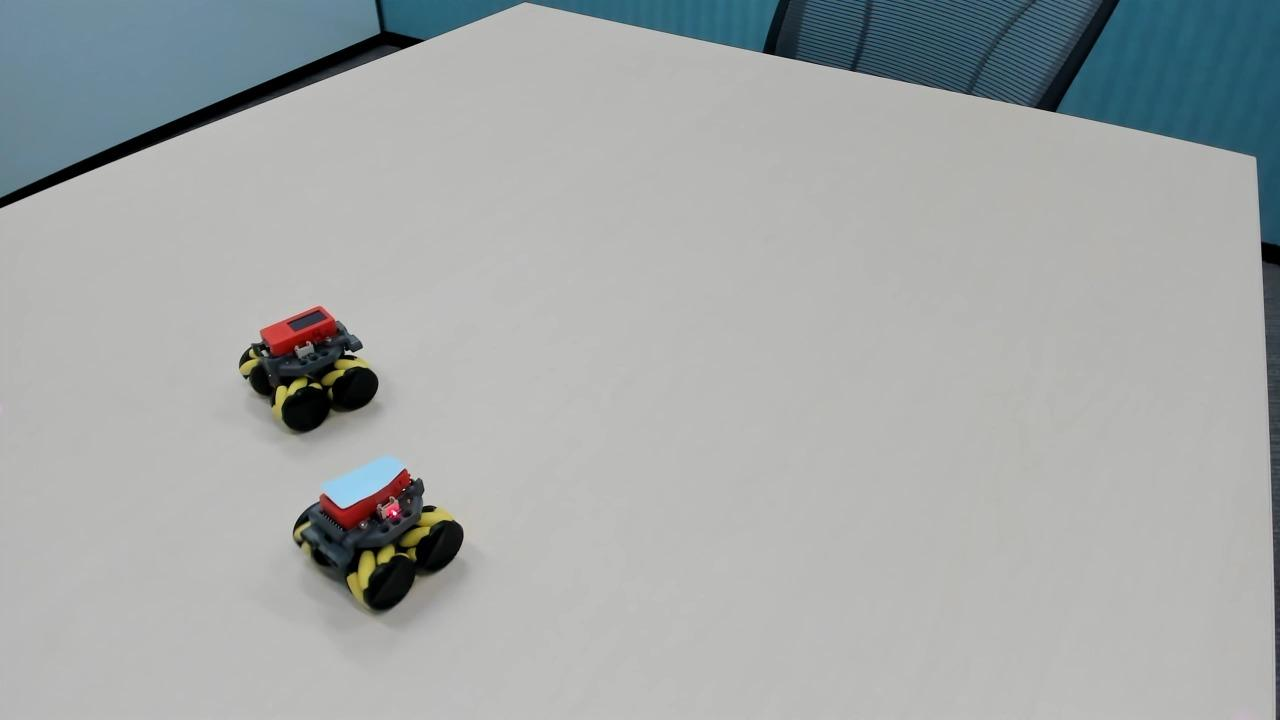B-Robot: (286, 461, 470, 623)
R-Robot: (238, 301, 398, 449)
